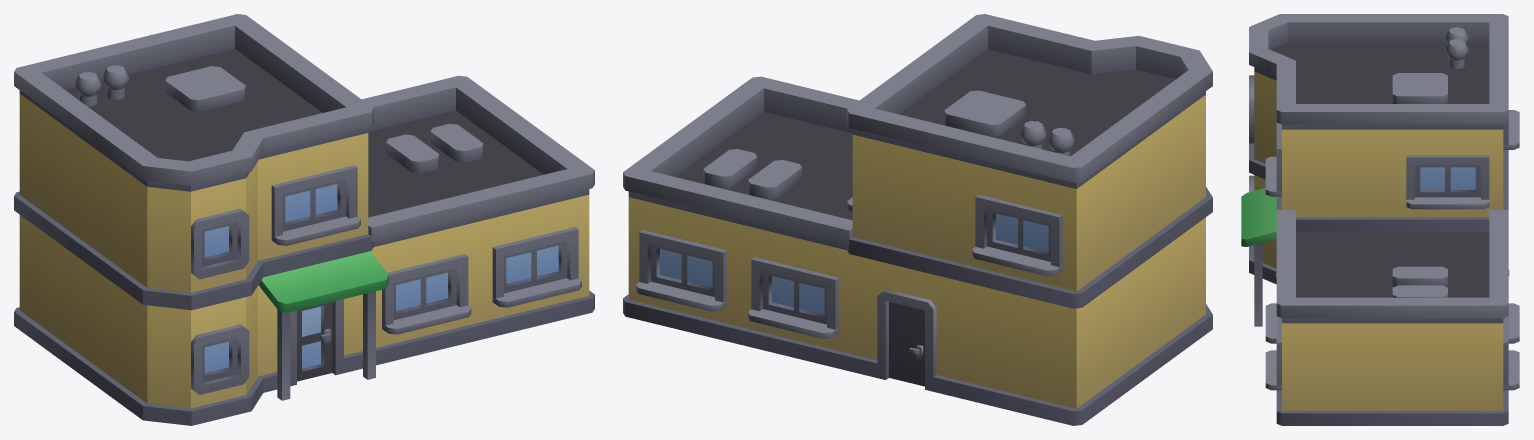
File: building-e.glb
The picture shows the model from 3 angles, left to right: view 1: azimuth 30°, elevation 25°; view 2: azimuth 150°, elevation 25°; view 3: azimuth 270°, elevation 25°; orthographic projection. The views are drawn at different scales.
Visible parts, largest first — view 1: building-e; view 2: building-e; view 3: building-e.
Part boxes in pixels (x1,y1,x2,y2): building-e: [14, 14, 594, 425]; building-e: [623, 14, 1212, 425]; building-e: [1241, 14, 1519, 425].
Bounding box in the file's own units: 1.64 × 0.893 × 1.01.
Materials: 1 (1 with a texture image).
